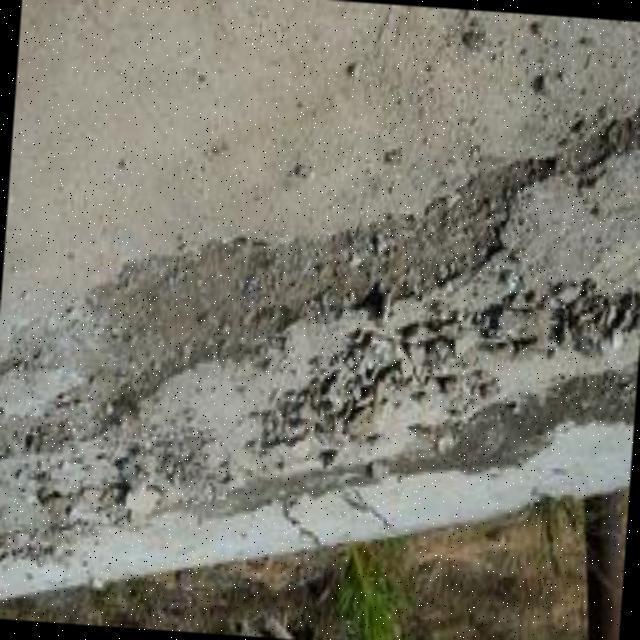road collapse: (0, 23, 640, 618)
